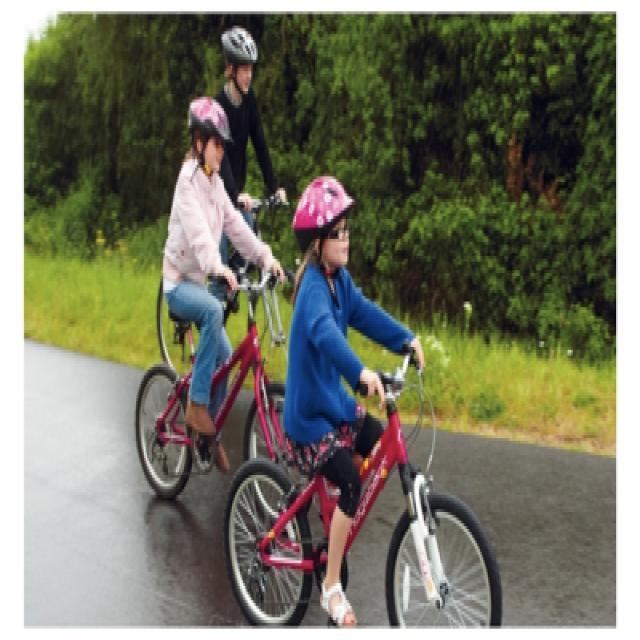Helmet: (290, 166, 358, 282), (183, 88, 230, 176), (218, 23, 259, 94)
